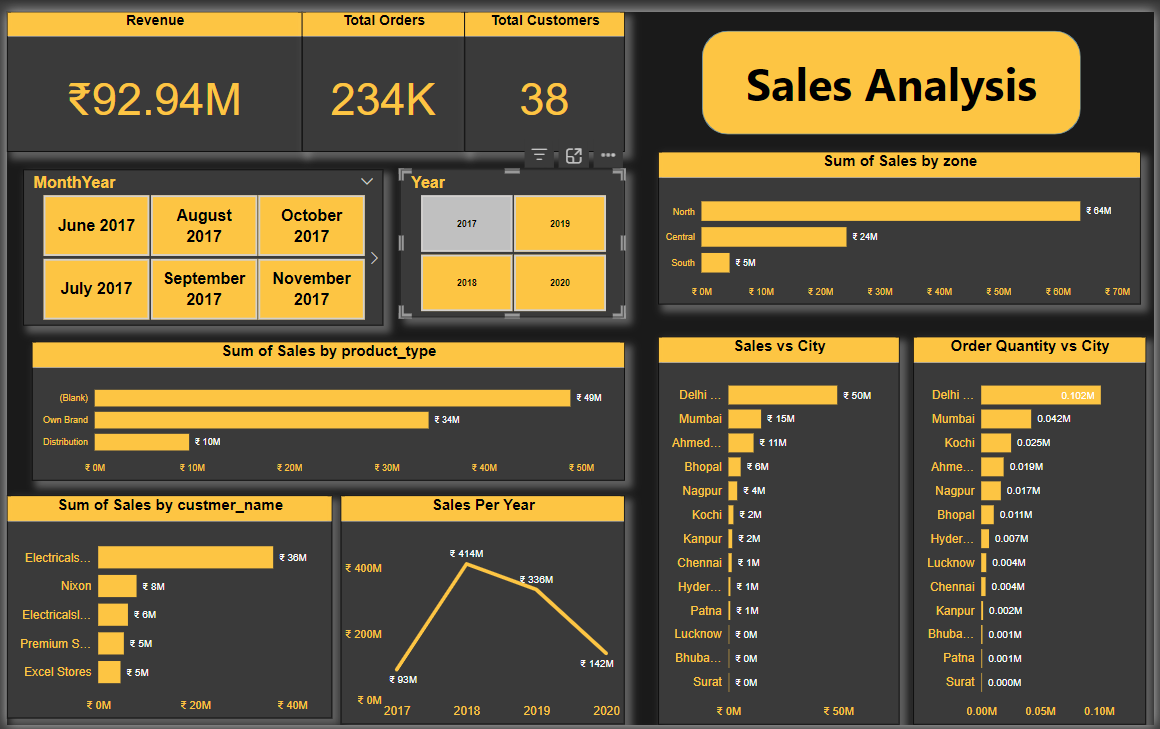

The page's visual inventory and layout, read from the dashboard file:
{"tool":"powerbi","page":{"name":"Page 1","canvas":[1530,950],"ordinal":0},"visuals":[{"type":"card","title":"Revenue","fields":{"Values":["sales customers.Total_Revenue"]},"box":[0,0,393.3,186.7],"z":0},{"type":"card","title":"Total Orders ","fields":{"Values":["sales customers.Total_Quantity"]},"box":[393.3,0,216.7,186.7],"z":1000},{"type":"card","title":"Total Customers ","fields":{"Values":["sales customers.Total_Customers"]},"box":[610,0,213.3,186.7],"z":2000},{"type":"slicer","fields":{"Values":["sales date.Year"]},"box":[525,210,298.3,196.7],"z":3000},{"type":"slicer","fields":{"Values":["sales date.MonthYear"]},"box":[21.7,210,480,208.3],"z":4000},{"type":"barChart","title":"Sales vs City","fields":{"Category":["sales markets.markets_name"],"Y":["Sum(sales transactions.Normalised_currency)"]},"box":[868.3,433.3,321.7,516.7],"z":5000},{"type":"barChart","fields":{"Category":["sales customers.custmer_name"],"Y":["Sum(sales transactions.Sales)"]},"box":[0,645,433.3,296.7],"z":6000},{"type":"barChart","fields":{"Category":["sales products.product_type"],"Y":["Sum(sales transactions.Sales)"]},"box":[33.3,440,790,185],"z":7000},{"type":"barChart","fields":{"Category":["sales markets.zone"],"Y":["Sum(sales transactions.Sales)"]},"box":[868.3,186.7,643.3,203.3],"z":8000},{"type":"barChart","title":"Order Quantity vs City","fields":{"Category":["sales markets.markets_name"],"Y":["Sum(sales transactions.sales_qty)"]},"box":[1208.3,433.3,310,516.7],"z":9000},{"type":"lineChart","title":"Sales Per Year ","fields":{"Y":["Sum(sales transactions.Sales)"],"Category":["sales date.date.Variation.Date Hierarchy.Year","sales date.date.Variation.Date Hierarchy.Quarter","sales date.date.Variation.Date Hierarchy.Month","sales date.date.Variation.Date Hierarchy.Day"]},"box":[445,645,378.3,305],"z":10000},{"type":"shape","box":[926.7,25,505,138.3],"z":10001}]}

Visuals, with their boxes in screenshot pixels (x1, y1, x2, y2), scaled from the page's 1530x950 canvas onto the 1160x729 screenshot:
"Revenue" card: BBox(0, 0, 298, 143)
"Total Orders " card: BBox(298, 0, 462, 143)
"Total Customers " card: BBox(462, 0, 624, 143)
slicer - sales date.Year: BBox(398, 161, 624, 312)
slicer - sales date.MonthYear: BBox(16, 161, 380, 321)
"Sales vs City" barChart: BBox(658, 333, 902, 728)
barChart - sales customers.custmer_name x Sum(sales transactions.Sales): BBox(0, 495, 329, 723)
barChart - sales products.product_type x Sum(sales transactions.Sales): BBox(25, 338, 624, 480)
barChart - sales markets.zone x Sum(sales transactions.Sales): BBox(658, 143, 1146, 299)
"Order Quantity vs City" barChart: BBox(916, 333, 1151, 728)
"Sales Per Year " lineChart: BBox(337, 495, 624, 728)
shape: BBox(703, 19, 1085, 125)
